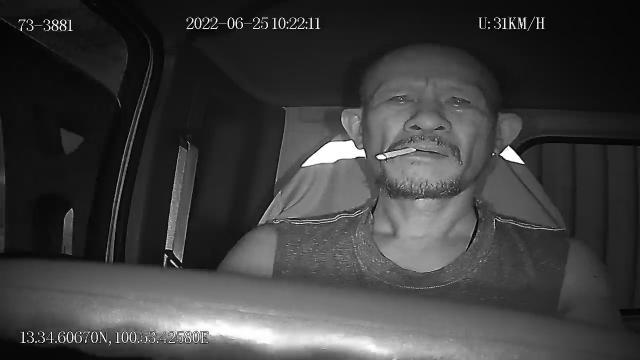SafeDriving: (440, 87, 478, 113), (381, 86, 422, 110)
Smoking: (376, 146, 416, 160)
